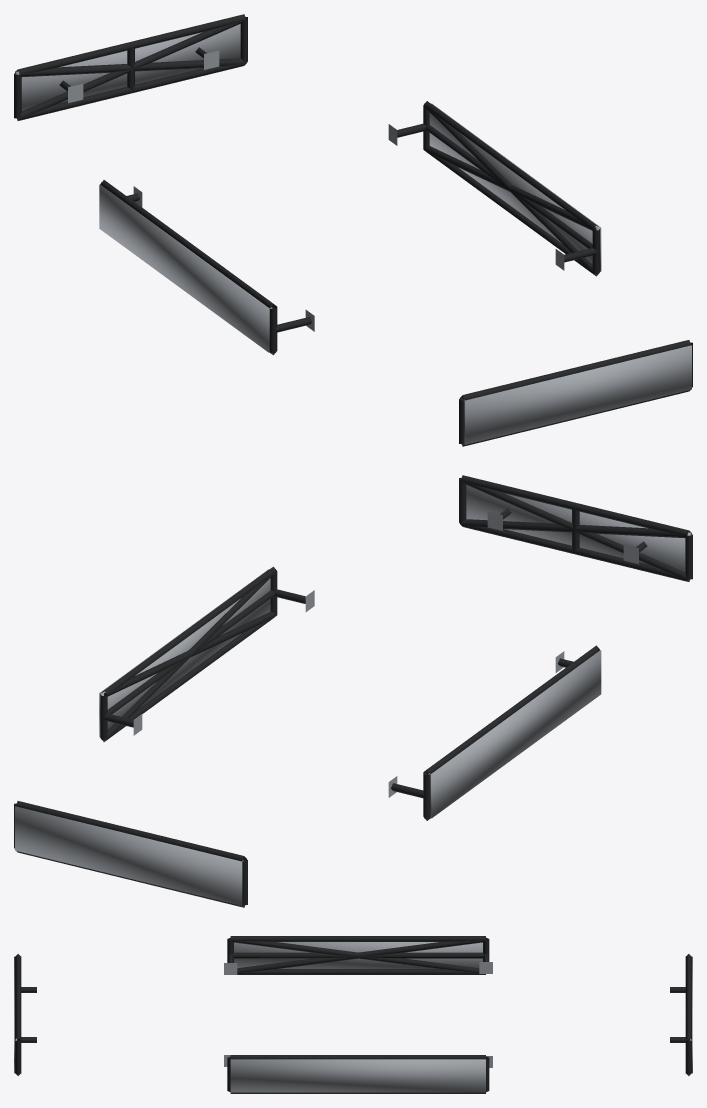
Rendered from kanaya_cascalho_protecao.glb.
3 renders of one model, top to bottom at view 1: azimuth 30°, elevation 25°; view 2: azimuth 150°, elevation 25°; view 3: azimuth 270°, elevation 25°, orthographic. The views are drawn at different scales.
Parts seen in each view (by area): view 1: Protection_front_Level3_Details, Protection_left_Level3_Details, Protection_rear_Level3_Details, Protection_rear_Level1_Details, Protection_right_Level1_Details, Protection_right_Level2_Details, Protection_rear_Level2_Details, Protection_right_Level3_Details, Protection_left_Level1_Details, Protection_front_Level1_Details; view 2: Protection_rear_Level3_Details, Protection_left_Level3_Details, Protection_front_Level3_Details, Protection_front_Level1_Details, Protection_right_Level1_Details, Protection_right_Level2_Details, Protection_front_Level2_Details, Protection_right_Level3_Details, Protection_left_Level1_Details, Protection_rear_Level1_Details; view 3: Protection_right_Level3_Details, Protection_left_Level2_Details, Protection_left_Level3_Details, Protection_left_Level1_Details, Protection_right_Level1_Details, Protection_rear_Level1_Details, Protection_front_Level1_Details.
Boxes of the visible parts, x1=… form: Protection_front_Level3_Details: x1=463, y1=345, x2=691, y2=444; Protection_left_Level3_Details: x1=99, y1=184, x2=272, y2=352; Protection_rear_Level3_Details: x1=15, y1=24, x2=240, y2=111; Protection_rear_Level1_Details: x1=14, y1=14, x2=247, y2=120; Protection_right_Level1_Details: x1=388, y1=101, x2=600, y2=276; Protection_right_Level2_Details: x1=423, y1=106, x2=598, y2=275; Protection_rear_Level2_Details: x1=16, y1=20, x2=245, y2=120; Protection_right_Level3_Details: x1=429, y1=103, x2=601, y2=271; Protection_left_Level1_Details: x1=100, y1=180, x2=314, y2=354; Protection_front_Level1_Details: x1=459, y1=340, x2=692, y2=446; Protection_rear_Level3_Details: x1=15, y1=806, x2=243, y2=905; Protection_left_Level3_Details: x1=428, y1=650, x2=601, y2=818; Protection_front_Level3_Details: x1=466, y1=485, x2=691, y2=572; Protection_front_Level1_Details: x1=459, y1=475, x2=692, y2=581; Protection_right_Level1_Details: x1=100, y1=566, x2=314, y2=741; Protection_right_Level2_Details: x1=101, y1=572, x2=276, y2=741; Protection_front_Level2_Details: x1=461, y1=481, x2=690, y2=581; Protection_right_Level3_Details: x1=99, y1=569, x2=270, y2=737; Protection_left_Level1_Details: x1=388, y1=645, x2=599, y2=820; Protection_rear_Level1_Details: x1=14, y1=801, x2=247, y2=907; Protection_right_Level3_Details: x1=230, y1=1059, x2=485, y2=1092; Protection_left_Level2_Details: x1=230, y1=938, x2=486, y2=972; Protection_left_Level3_Details: x1=234, y1=942, x2=482, y2=968; Protection_left_Level1_Details: x1=224, y1=936, x2=492, y2=974; Protection_right_Level1_Details: x1=224, y1=1055, x2=492, y2=1093; Protection_rear_Level1_Details: x1=670, y1=954, x2=691, y2=1075; Protection_front_Level1_Details: x1=15, y1=954, x2=36, y2=1075.
Bounding box in the file's own units: 2.38 × 0.354 × 5.58.
Materials: 1 (1 with a texture image).
